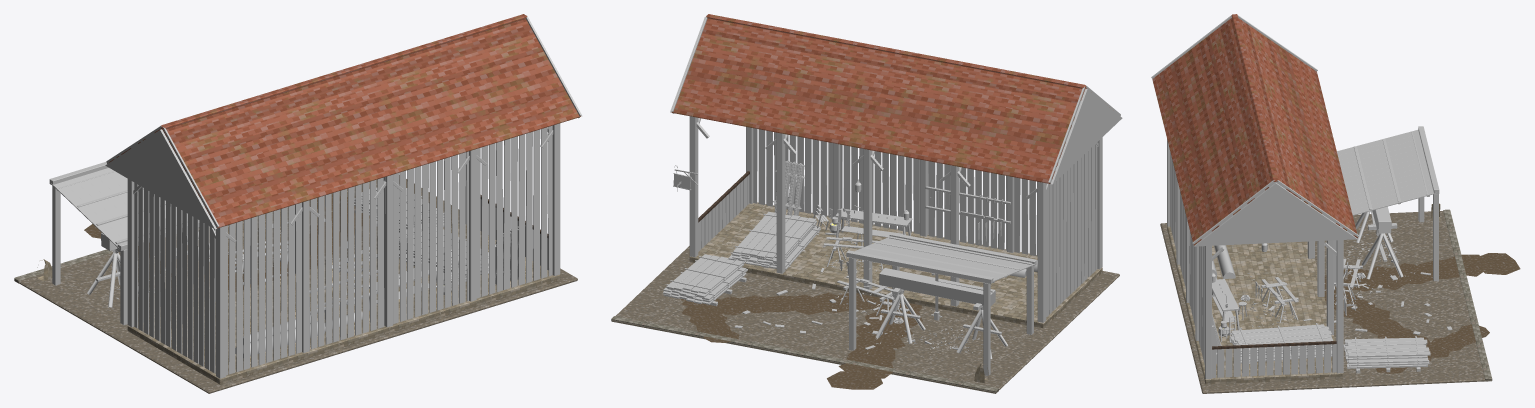
File: carpenter.gltf
The picture shows the model from 3 angles, left to right: view 1: azimuth 30°, elevation 25°; view 2: azimuth 150°, elevation 25°; view 3: azimuth 270°, elevation 25°; orthographic projection. The views are drawn at different scales.
Parts seen in each view (by area): view 1: carpenter#0_0, carpenter#n1_n1, carpenter#0_n1, carpenter#n1_0; view 2: carpenter#0_0, carpenter#n1_n1, carpenter#0_n1, carpenter#n1_0; view 3: carpenter#0_0, carpenter#n1_n1, carpenter#0_n1, carpenter#n1_0.
Part boxes in pixels (left/top/right/bottom): carpenter#0_0: left=14, top=14, right=582, bottom=393; carpenter#n1_n1: left=14, top=162, right=288, bottom=324; carpenter#0_n1: left=176, top=184, right=444, bottom=285; carpenter#n1_0: left=235, top=270, right=377, bottom=357; carpenter#0_0: left=611, top=14, right=1122, bottom=393; carpenter#n1_n1: left=611, top=232, right=1036, bottom=393; carpenter#0_n1: left=663, top=165, right=908, bottom=349; carpenter#n1_0: left=925, top=186, right=1037, bottom=277; carpenter#0_0: left=1151, top=14, right=1491, bottom=393; carpenter#n1_n1: left=1324, top=126, right=1520, bottom=381; carpenter#0_n1: left=1324, top=266, right=1489, bottom=373; carpenter#n1_0: left=1212, top=245, right=1235, bottom=296.
Bounding box in the file's own units: 15.62 × 8.4 × 13.41.
